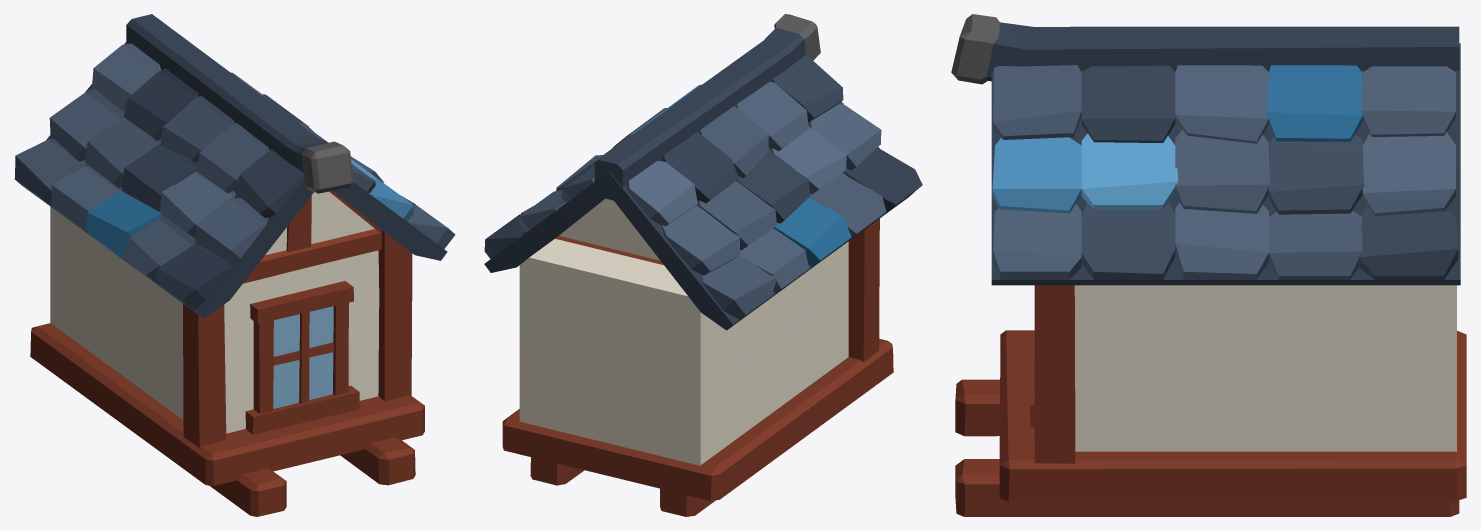
File: House_2Floor_Side_F.fbx
3 renders of one model, left to right at view 1: azimuth 30°, elevation 25°; view 2: azimuth 150°, elevation 25°; view 3: azimuth 270°, elevation 25°, orthographic. The views are drawn at different scales.
Visible parts, largest first — view 1: House_2Floor_Side_F; view 2: House_2Floor_Side_F; view 3: House_2Floor_Side_F.
Boxes of the visible parts, x1=… form: House_2Floor_Side_F: x1=14, y1=14, x2=455, y2=516; House_2Floor_Side_F: x1=484, y1=14, x2=922, y2=516; House_2Floor_Side_F: x1=951, y1=14, x2=1466, y2=516.
Size of the model in its own units: 156 by 189 by 198.
